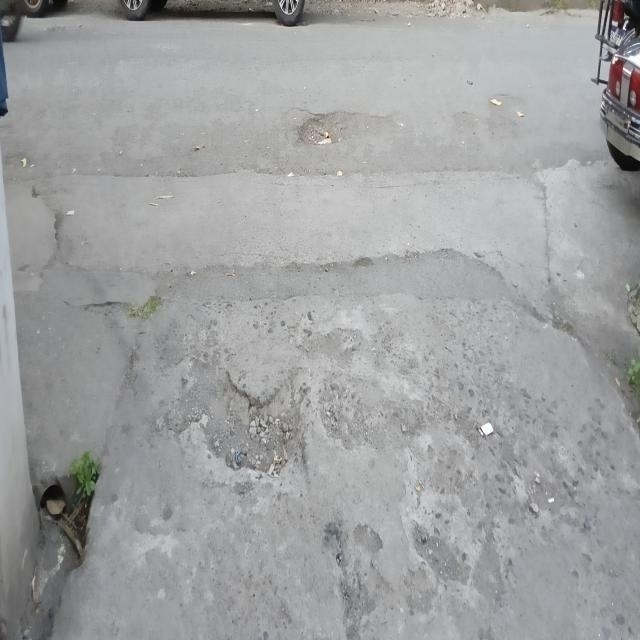pothole: (184, 338, 312, 516), (399, 478, 482, 622), (284, 77, 388, 168)
